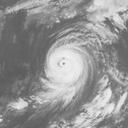cyclone: (46, 46, 91, 90)
